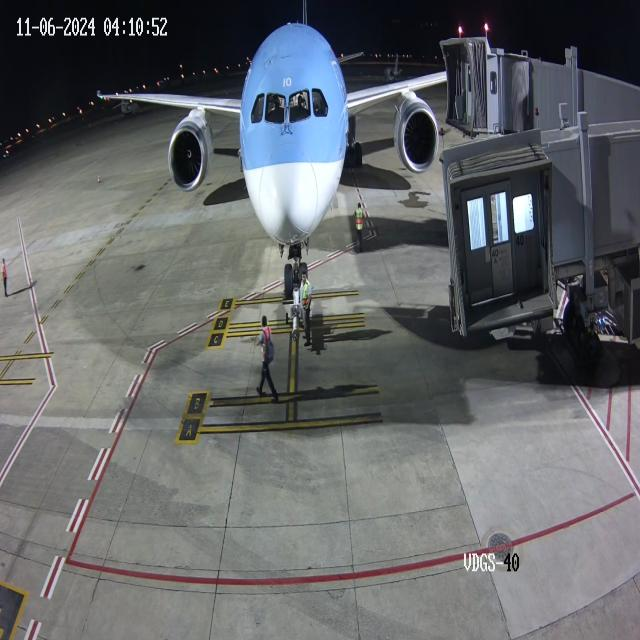bridge: (472, 24, 537, 138)
plane: (87, 1, 437, 307)
window: (248, 84, 332, 133)
